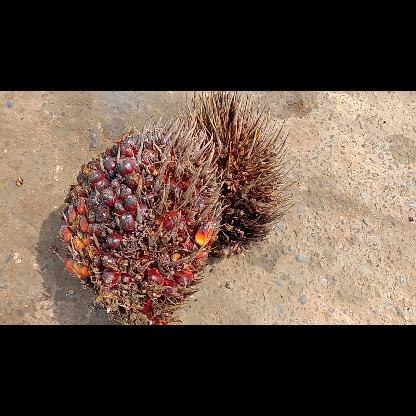Janjang kosong: (178, 90, 298, 258)
TBS masak: (58, 115, 228, 324)
